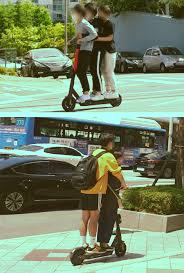multiple: (70, 131, 127, 266), (62, 2, 123, 110)
